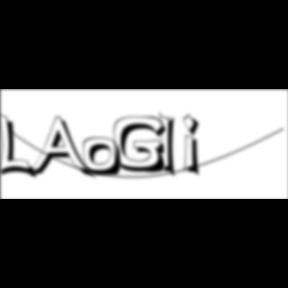A: (28, 116, 98, 182)
G: (114, 116, 172, 176)
I: (159, 110, 183, 182)
L: (1, 110, 40, 182)
i: (184, 112, 208, 180)
o: (83, 137, 125, 179)
